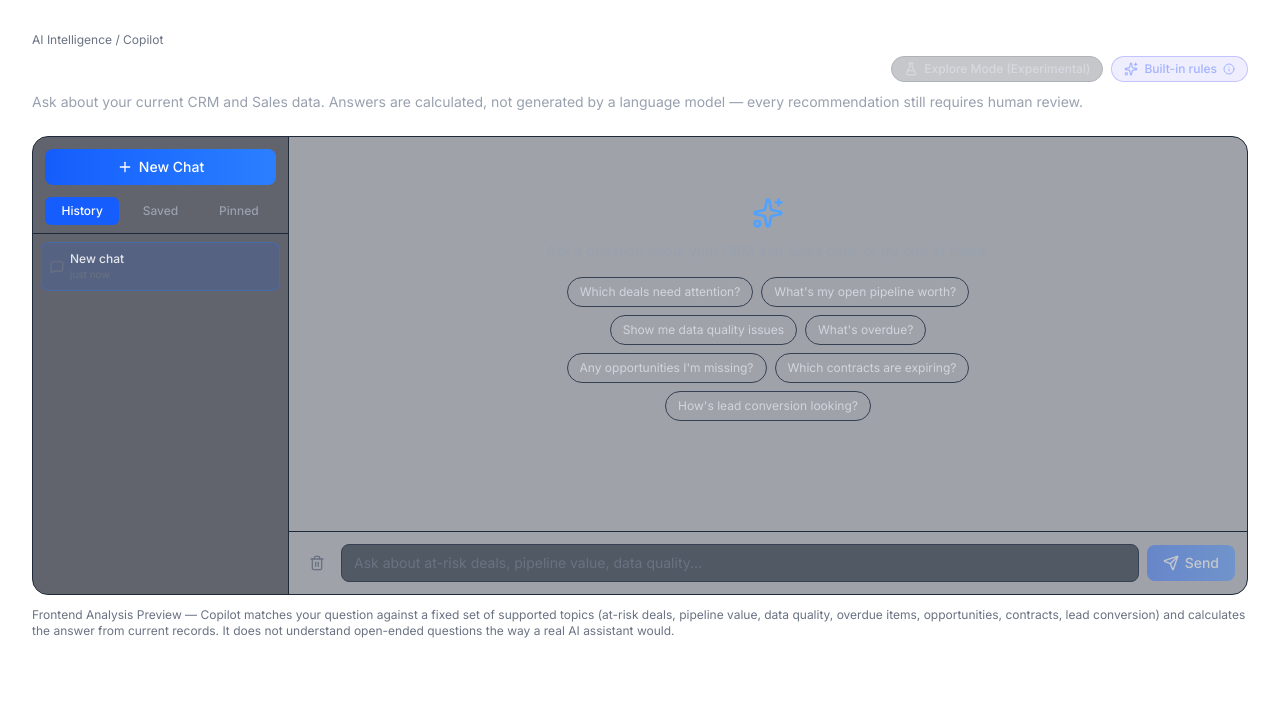
Test: AiCopilot — chat route rendering and behavior › typing a message and pressing Send adds it to the conversation
The image size is (1280, 720).
Type "help" into the field with placeholder "Ask about at-risk deals, pipeline value, data quality...". click: (740, 563)
box: [341,544,1139,582]
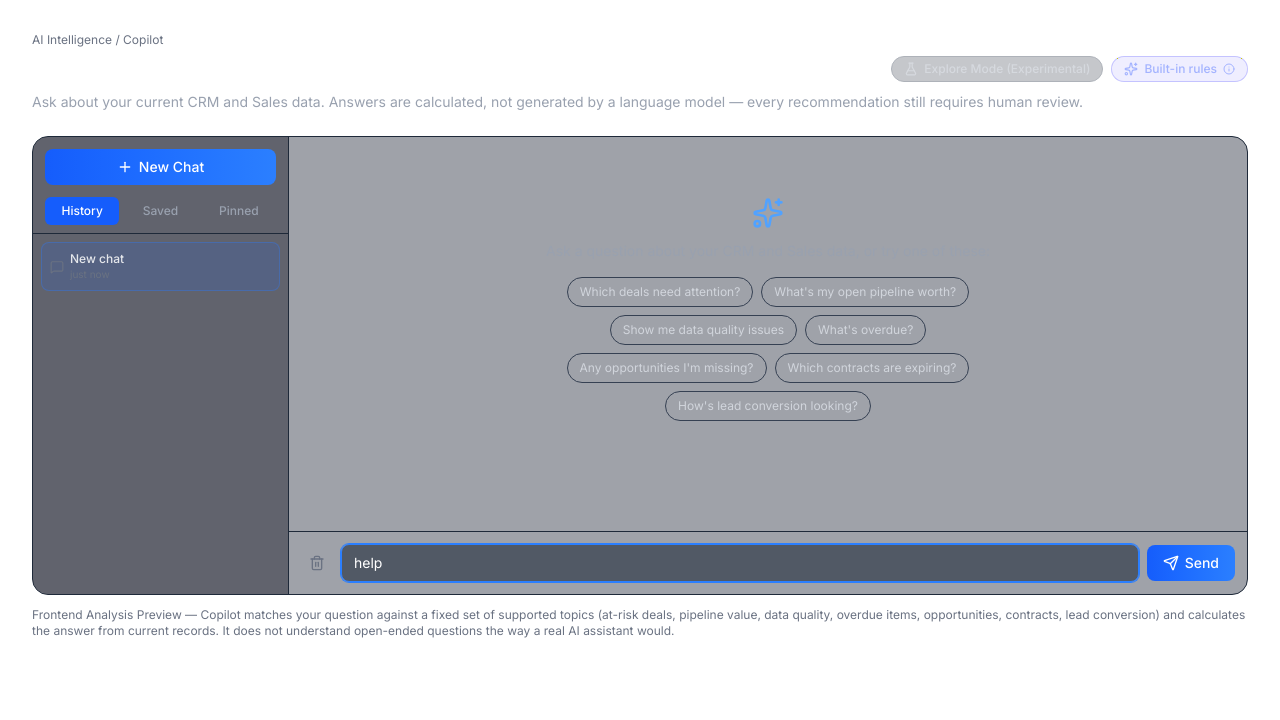
Click the button "Send". click: click(1191, 563)
box: [1147,545,1235,581]
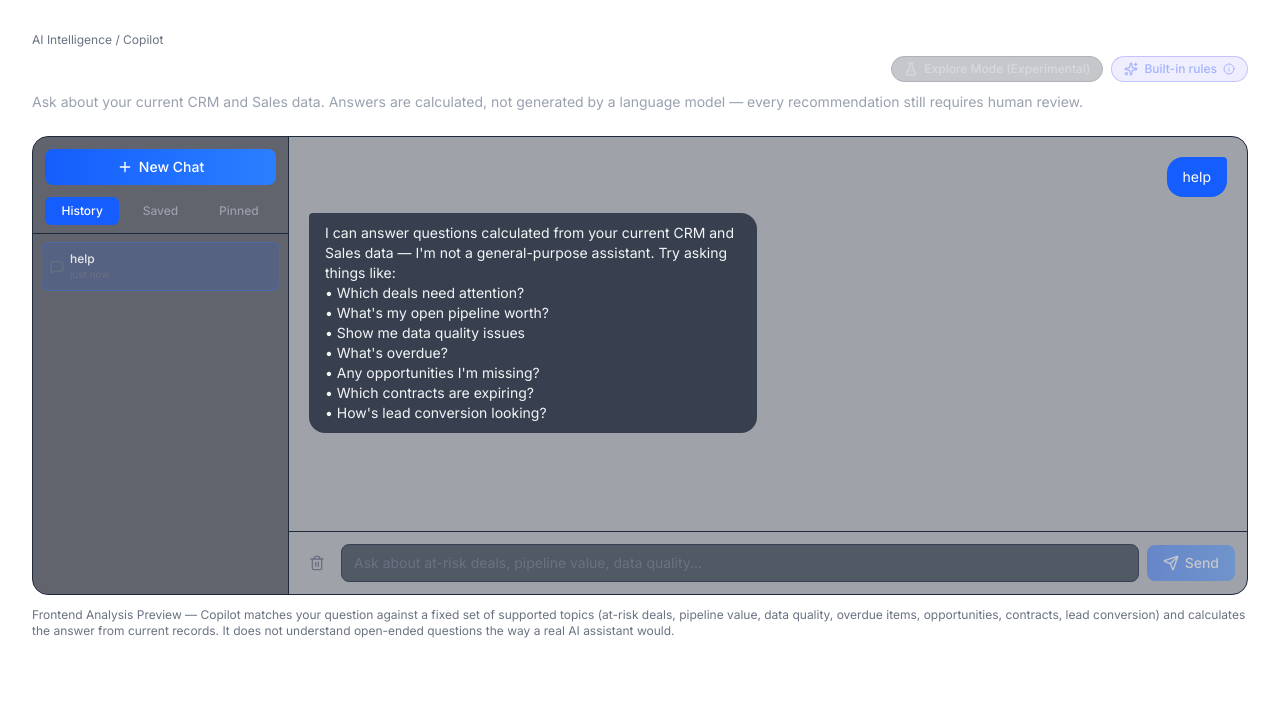
Check: the 1st text "help" is shown, box [1167,157,1227,197]
